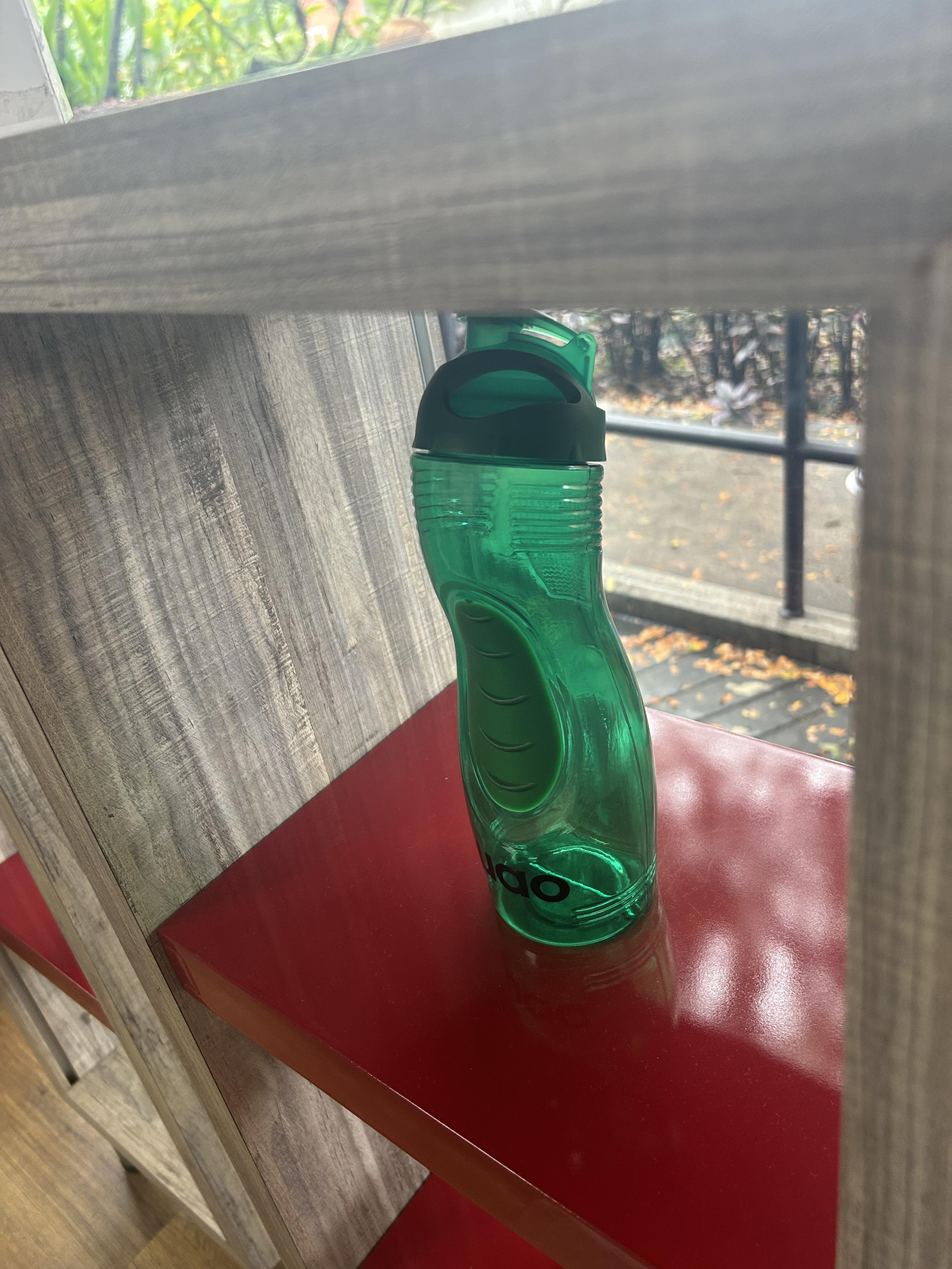termo: (411, 313, 656, 946)
